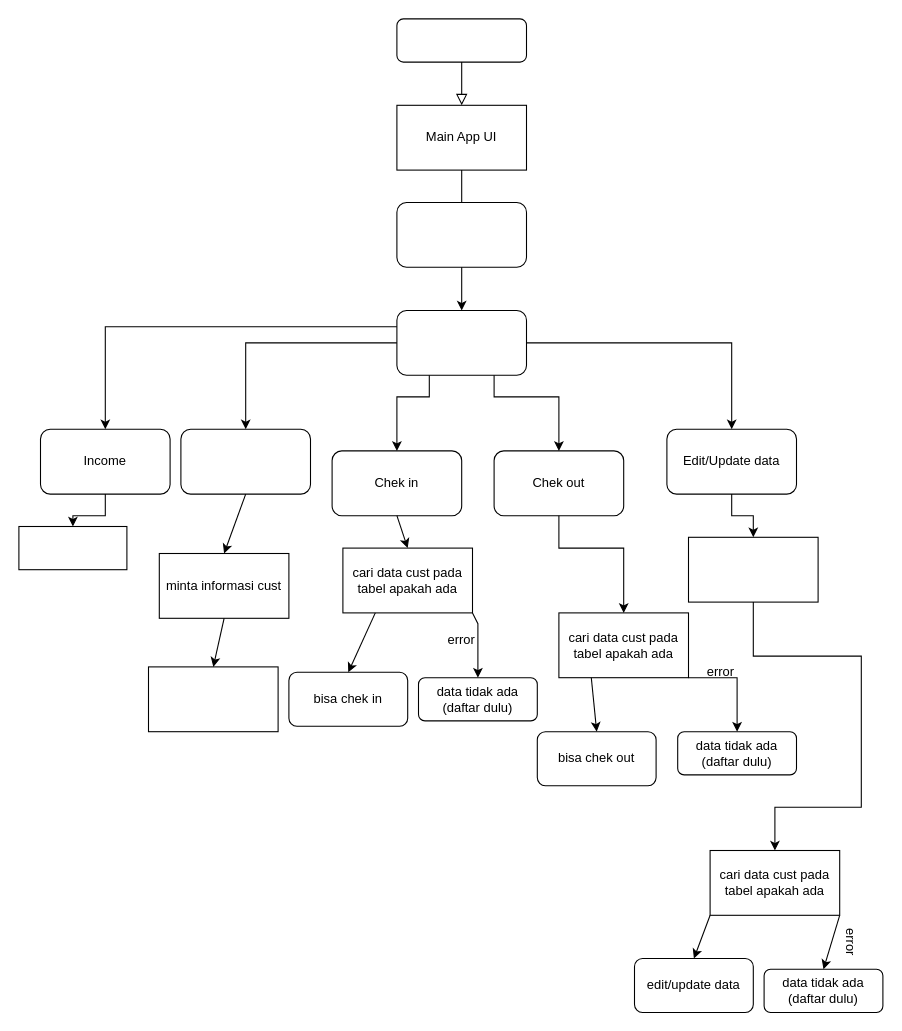
Image size: 902x1031. Some labels were removed from this diagram. Here are the shapes that lost their labels. From the top down, the centre of each, then its label:
At point (461, 40): "Menejement Hotel Madridistas".
At point (461, 234): "login admin".
At point (461, 342): "main menu".
At point (245, 461): "Booking Kamar".
At point (72, 547): "Analisi data Transaksi".
At point (752, 569): "tampilkan data cust hotel".
At point (212, 699): "masukkan data cust k tabel".
